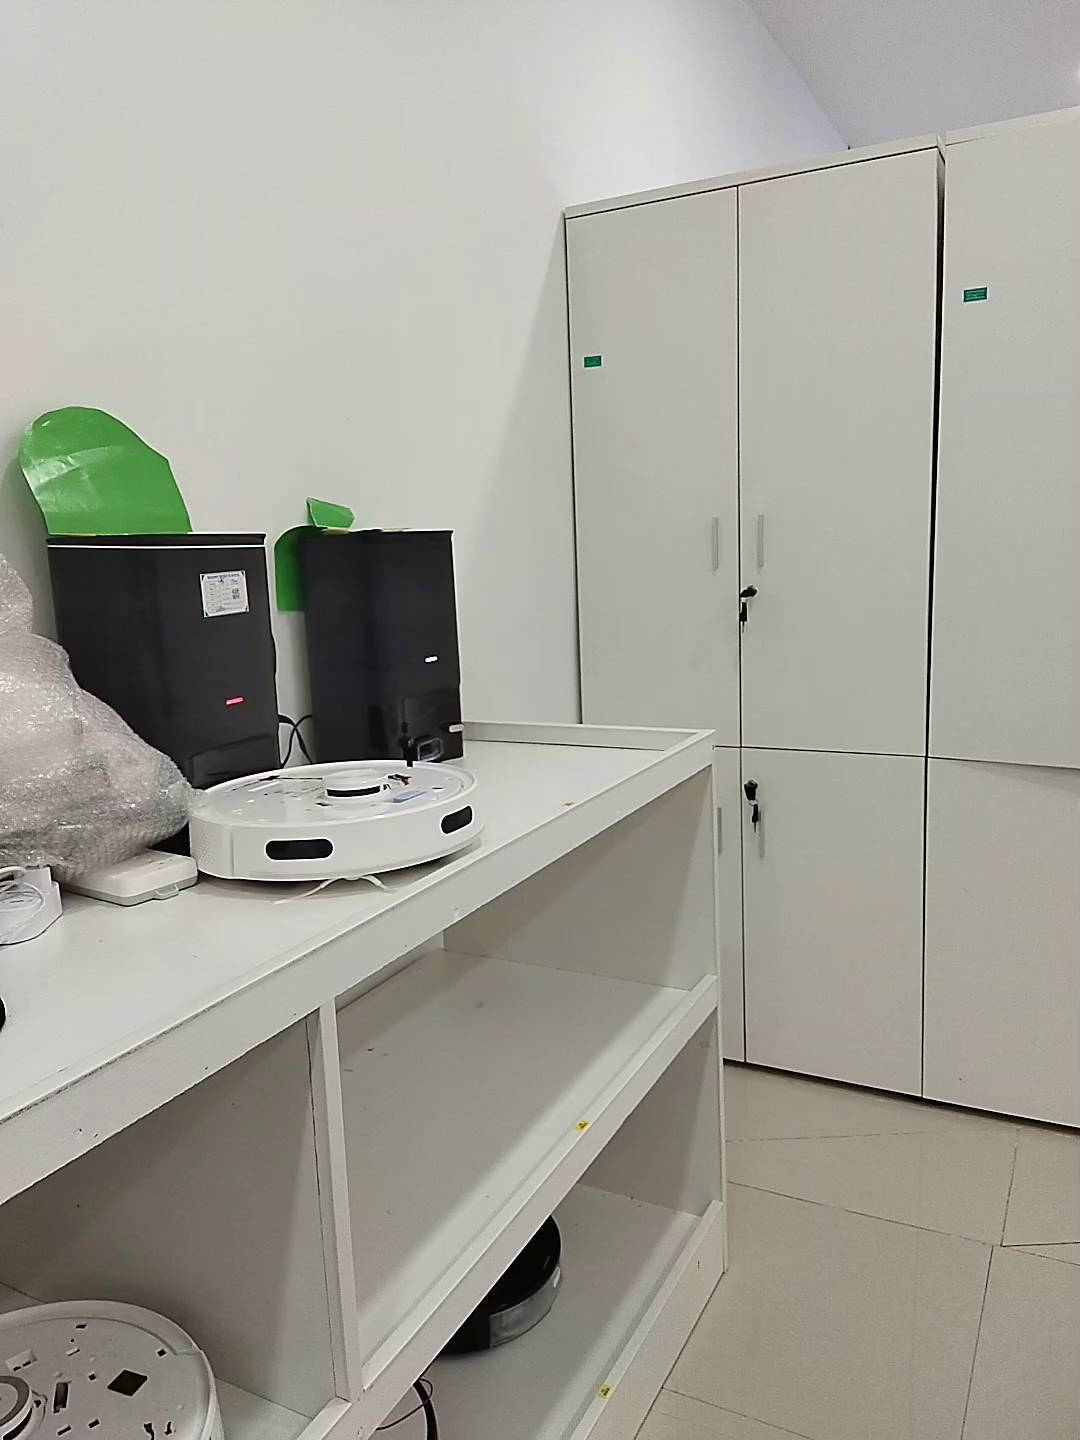dust collecting barrel: (47, 530, 284, 785), (299, 528, 469, 776)
